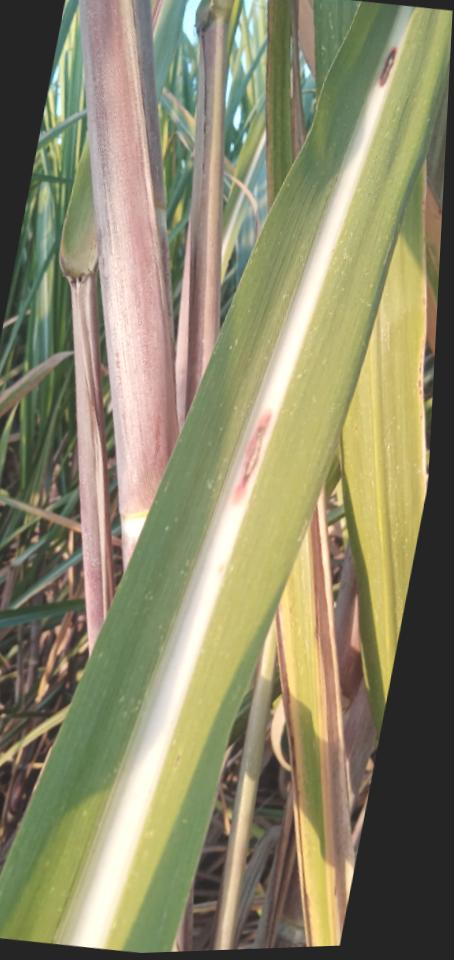RedRot: (229, 407, 275, 506), (377, 46, 397, 88)
